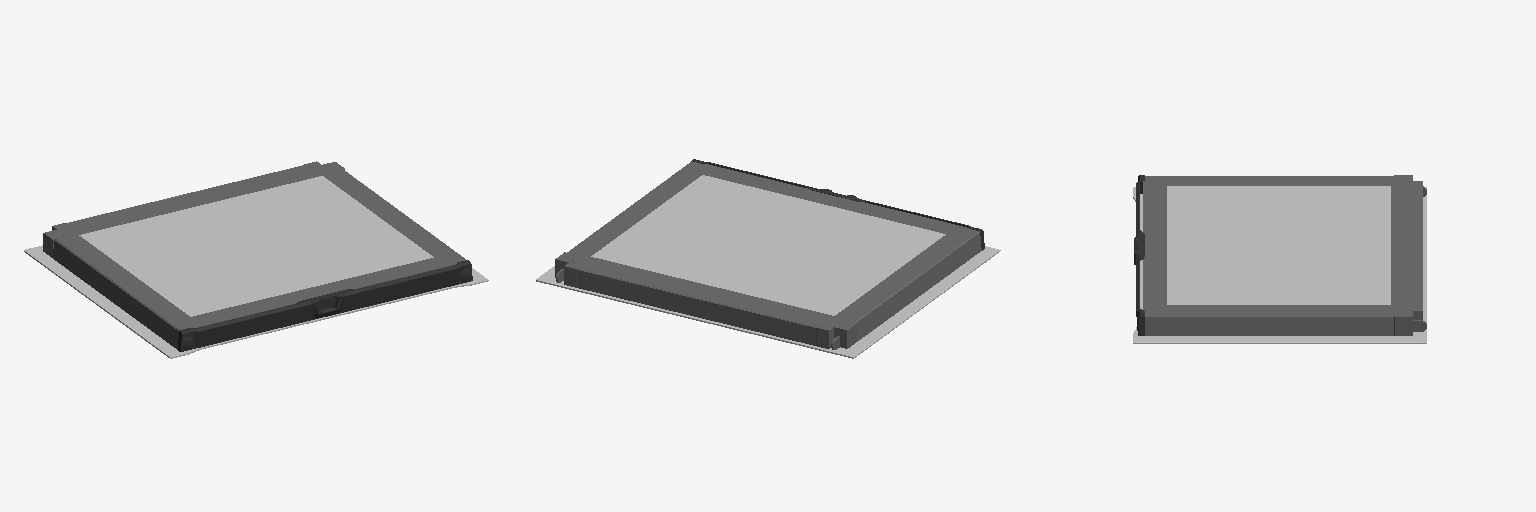
3 views of the same model, side by side, from view 1: azimuth 30°, elevation 25°; view 2: azimuth 150°, elevation 25°; view 3: azimuth 270°, elevation 25° (orthographic).
Visible parts, largest first — view 1: SM_Oven_Door; view 2: SM_Oven_Door; view 3: SM_Oven_Door.
Part boxes in pixels (x1,y1,x2,y2): SM_Oven_Door: (24, 161, 488, 358); SM_Oven_Door: (536, 159, 1000, 358); SM_Oven_Door: (1133, 175, 1426, 343).
Bounding box in the file's own units: 0.5909 × 0.0371 × 0.4731.
Materials: 4 (2 with a texture image).